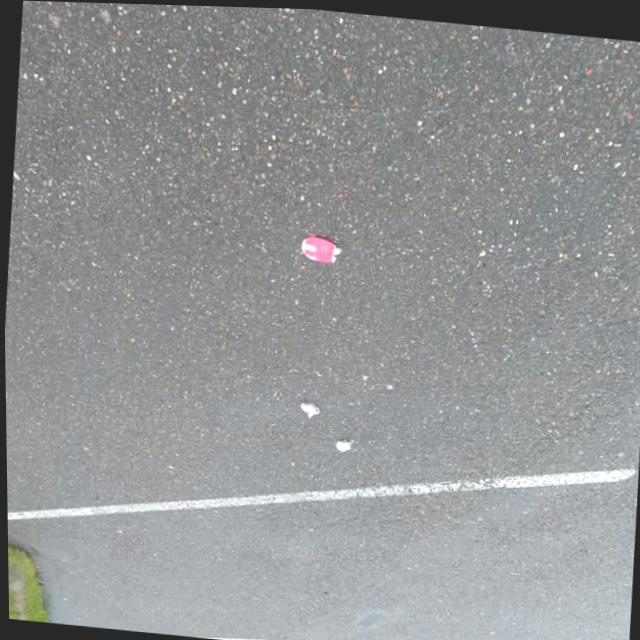Can-Metal: (298, 230, 341, 262)
Paper: (296, 398, 319, 417), (332, 435, 350, 451)
